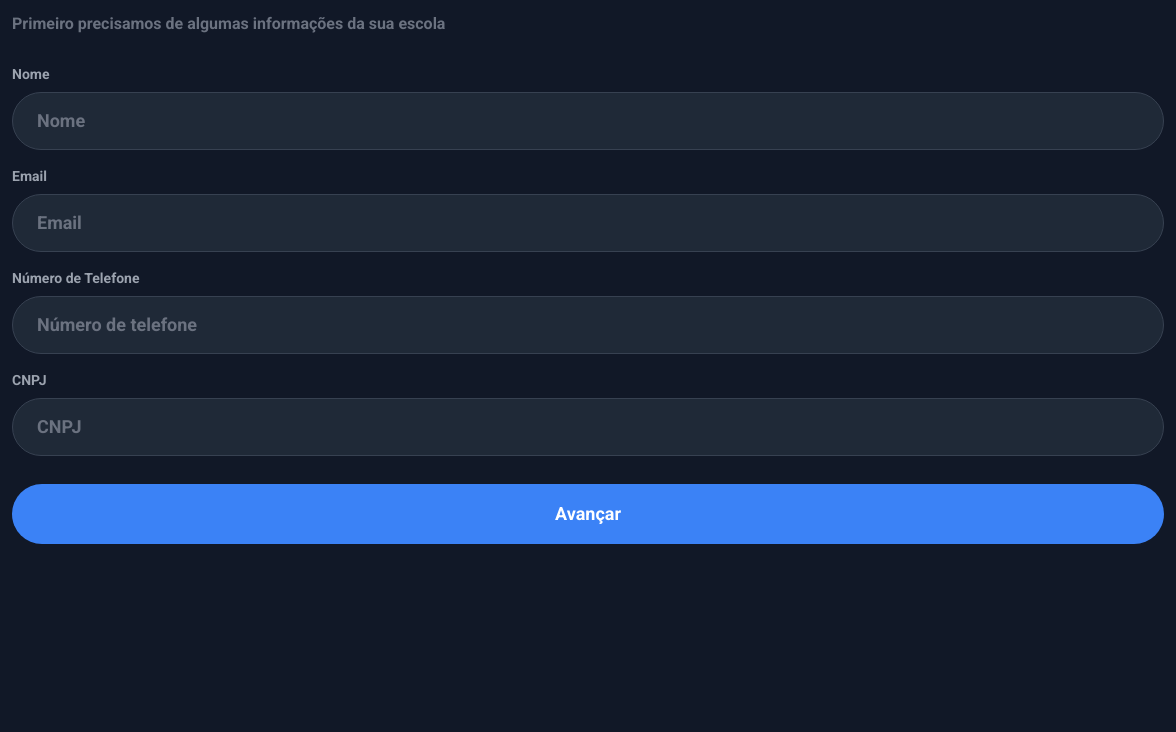
Test: FormSchool › Should be cnpj is invalid
Type "122" into the field with placeholder "CNPJ" at (588, 427), box [12, 398, 1164, 456]
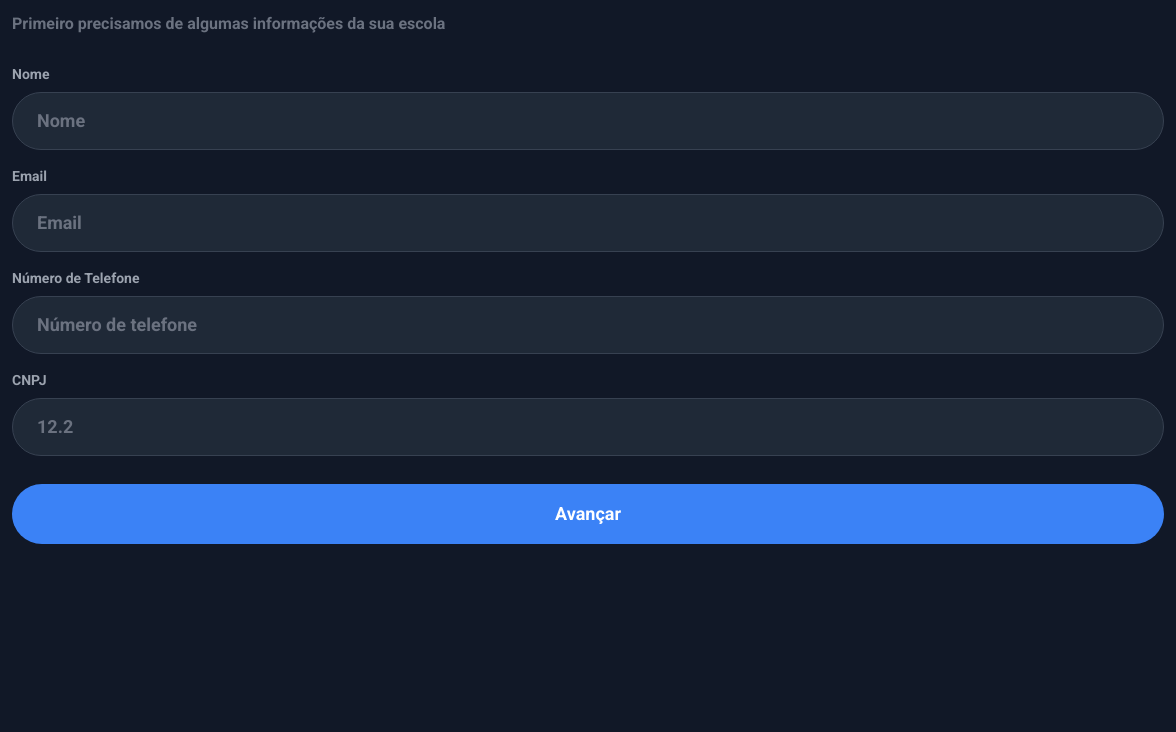
Click the button "Avançar" at (588, 514), box [555, 500, 621, 528]
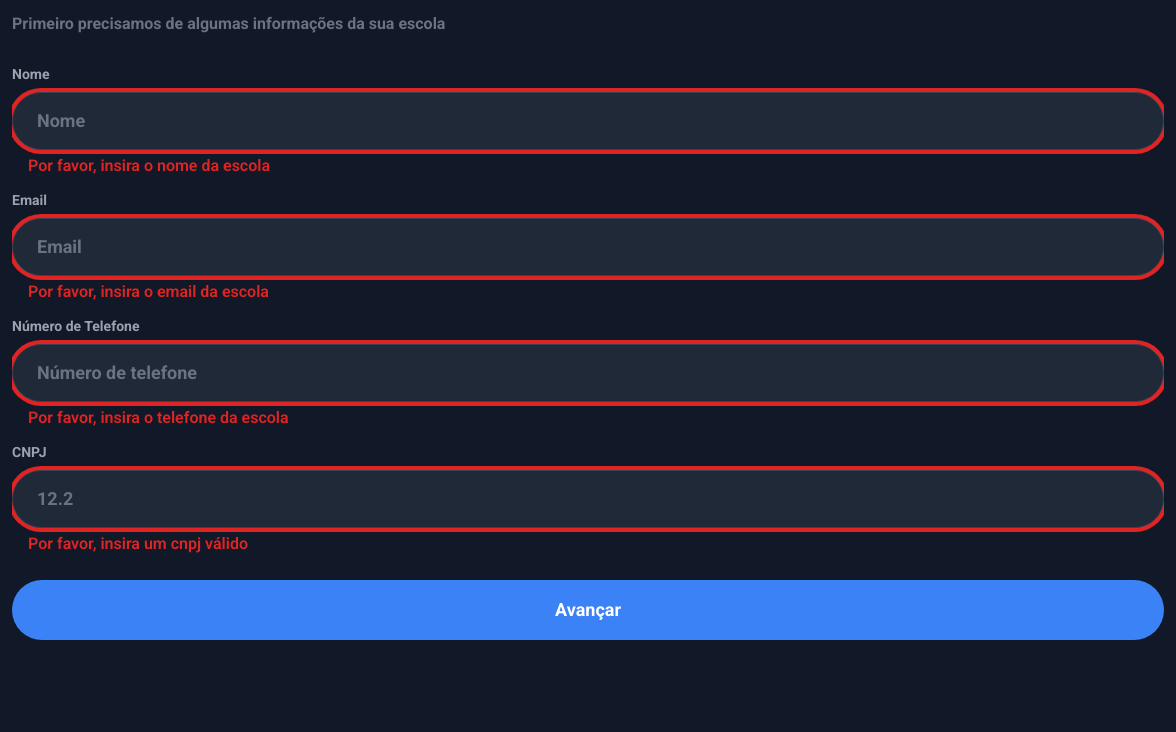
Expected: the text "Por favor, insira um cnpj válido" is shown, [28, 534, 248, 553]
